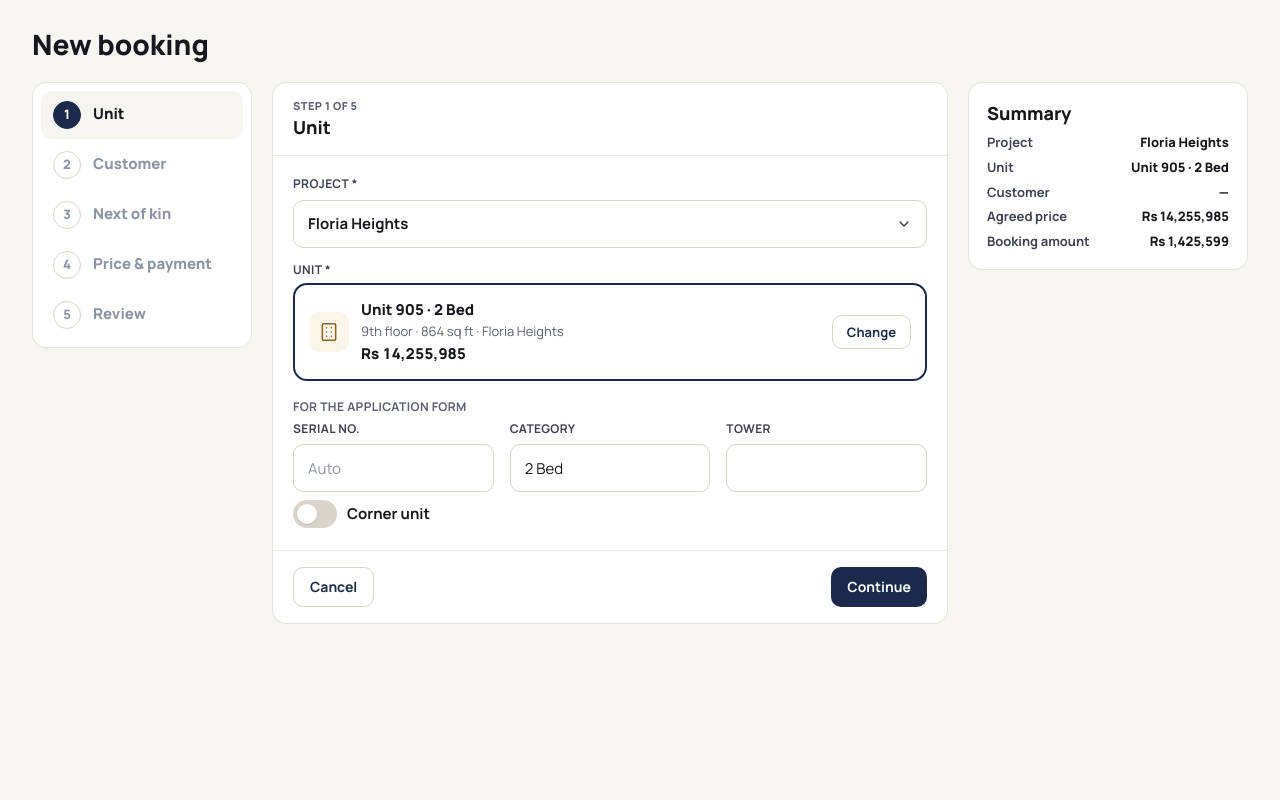
Test case: Step 2 · Customer › searches the server as the user types, and picks the customer
The width and height of the screenshot is (1280, 800).
Click the button "Continue" at (879, 587), box [831,567,927,607]
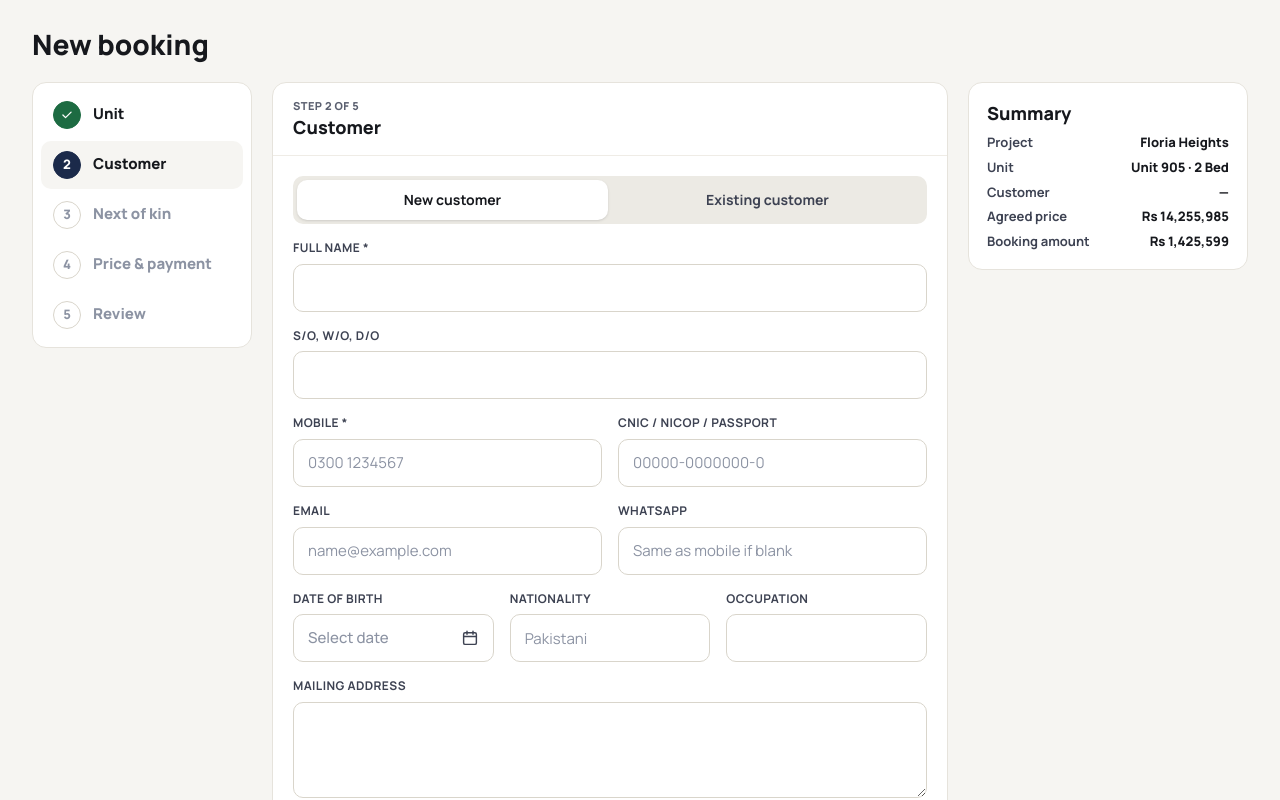
Expected: the radio button labelled "New customer" is shown, [297,180,608,220]
Click the radio button labelled "Existing customer" at (768, 200), box [612,180,923,220]
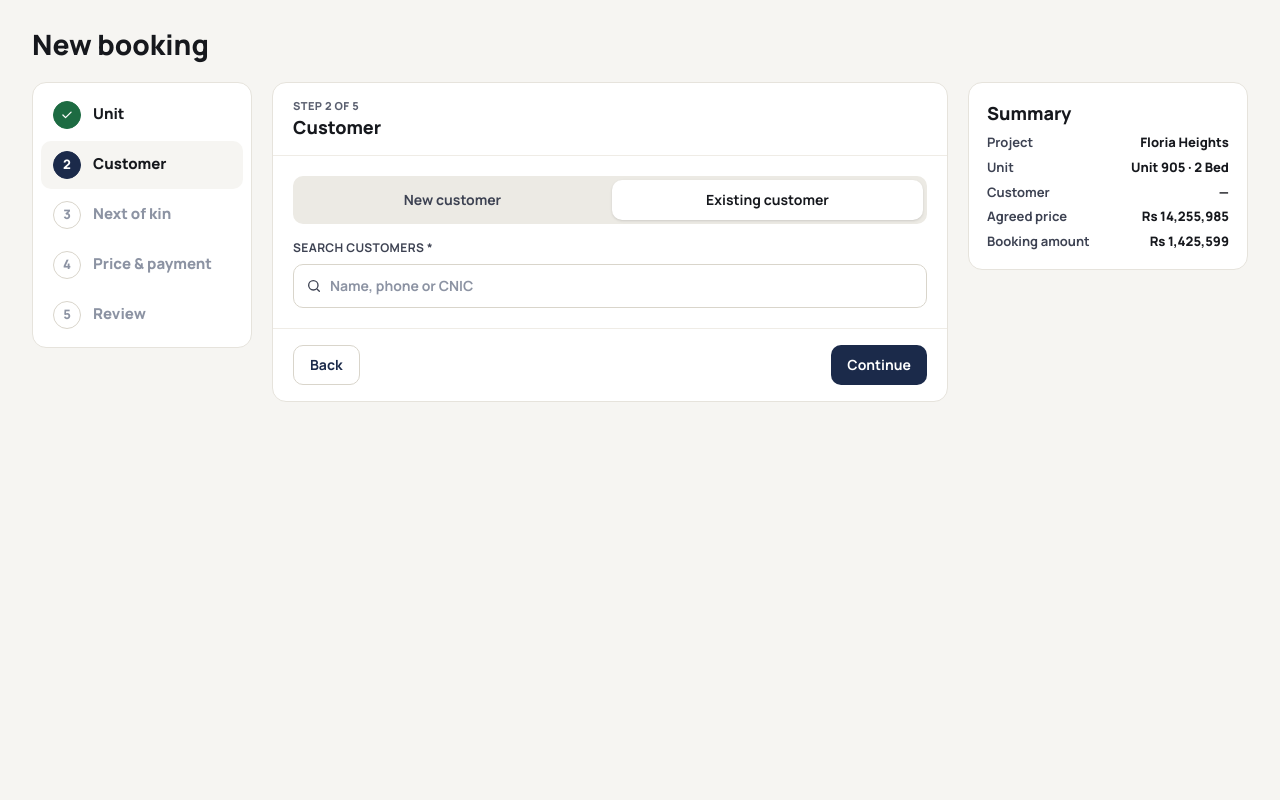
Type "usman" into the search field named "Search customers" at (622, 286), box [330,265,914,307]
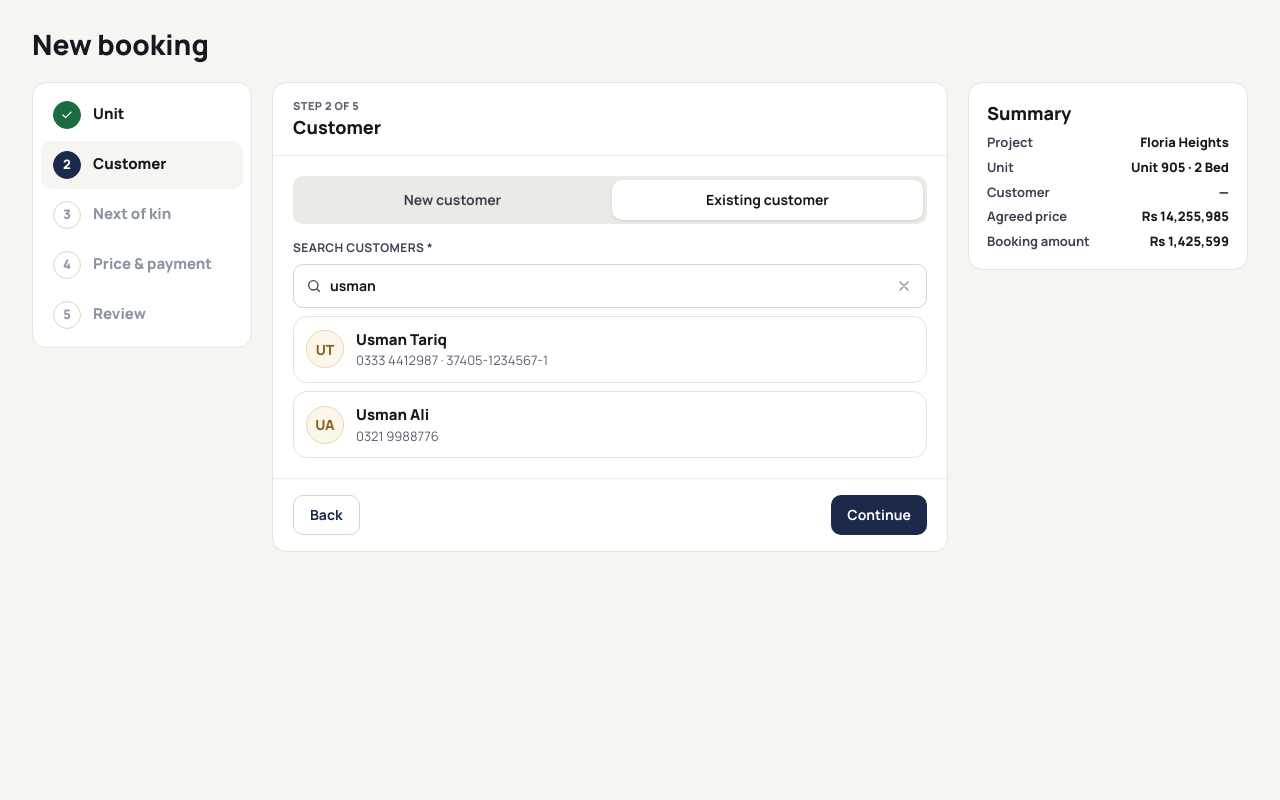
Expected: the text "0333 4412987 · 37405-1234567-1" is shown, [356,351,548,369]
Click the button "UT Usman Tariq 0333 4412987 · 37405-1234567-1" at (325, 349), box [293,316,927,383]
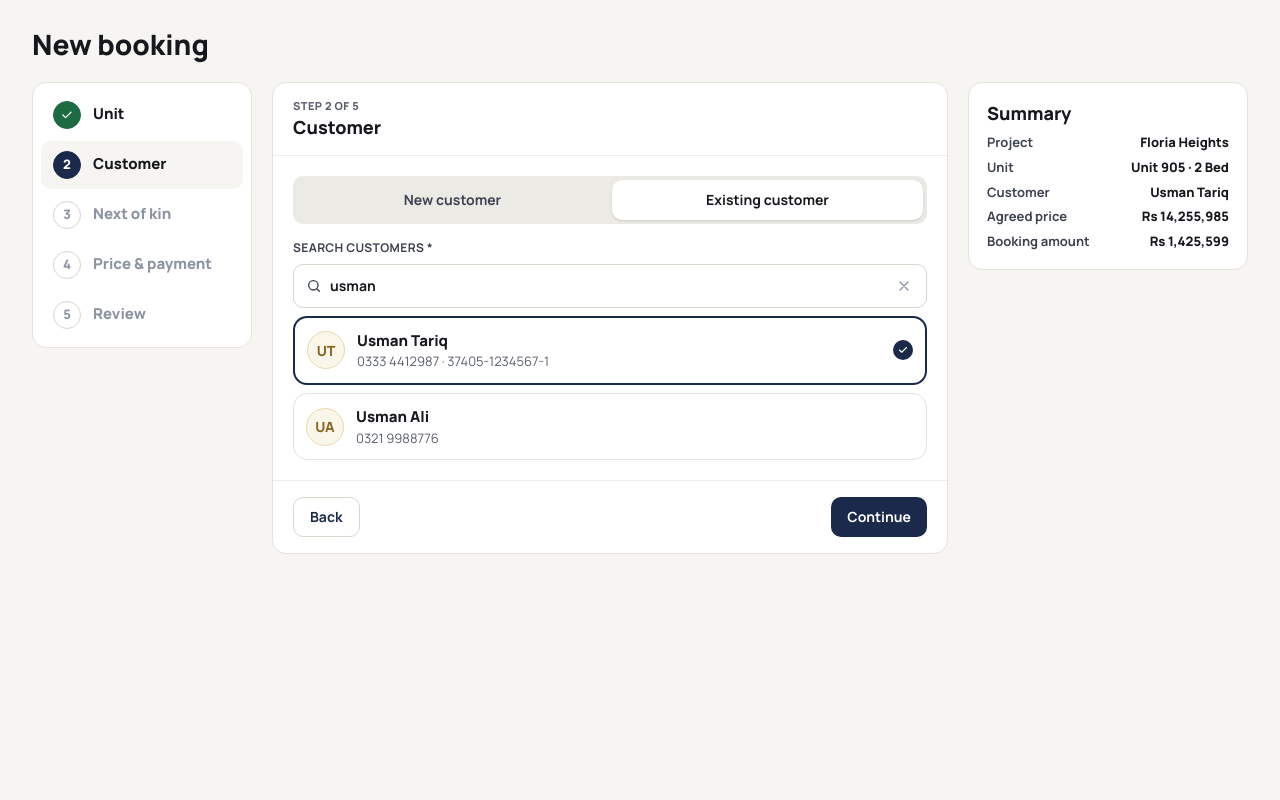
Expected: the button "UT Usman Tariq 0333 4412987 · 37405-1234567-1" is pressed, [293,316,927,385]
Click the button "Continue" at (879, 518), box [831,498,927,538]
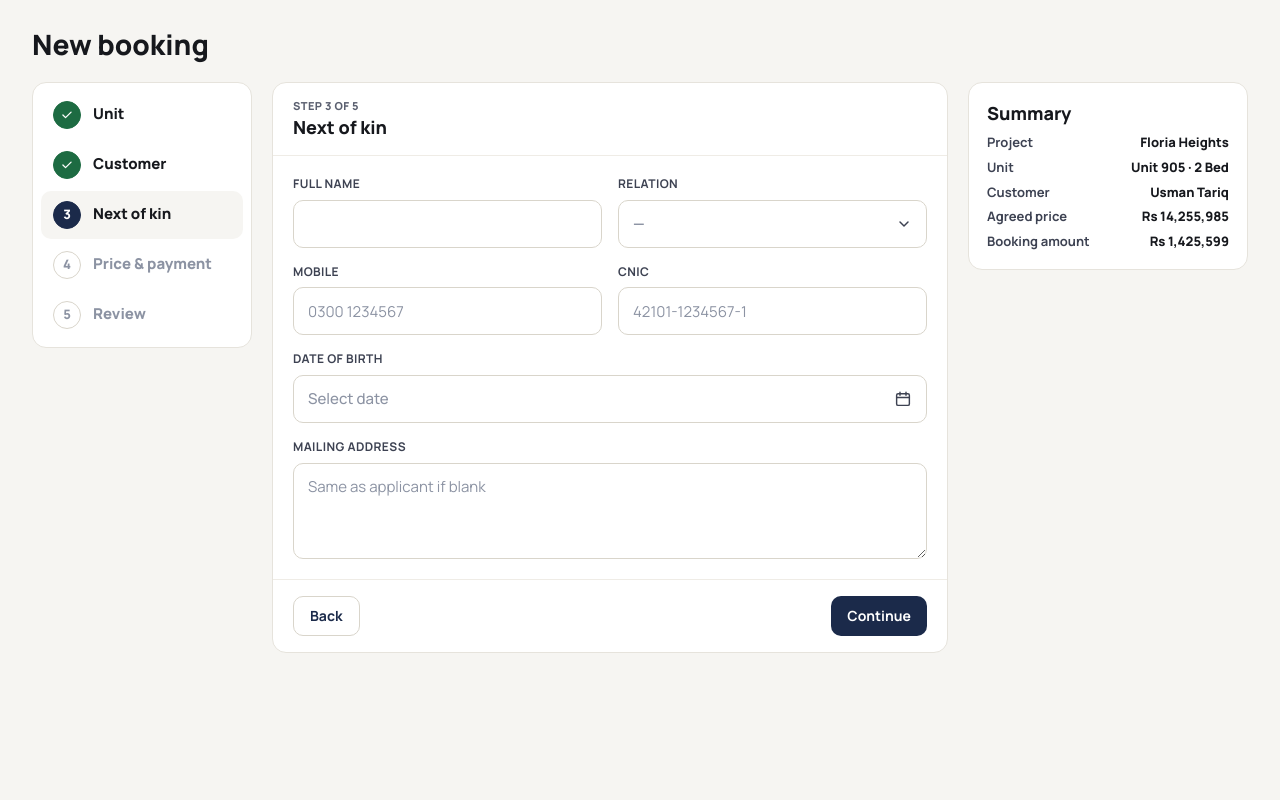
Expected: the text box labelled "Mailing address" is shown, [293,463,927,559]
